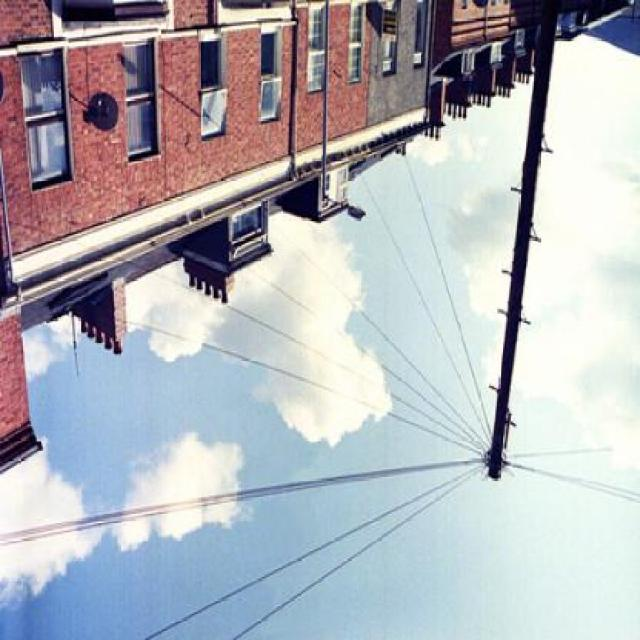pole: (468, 0, 600, 491)
